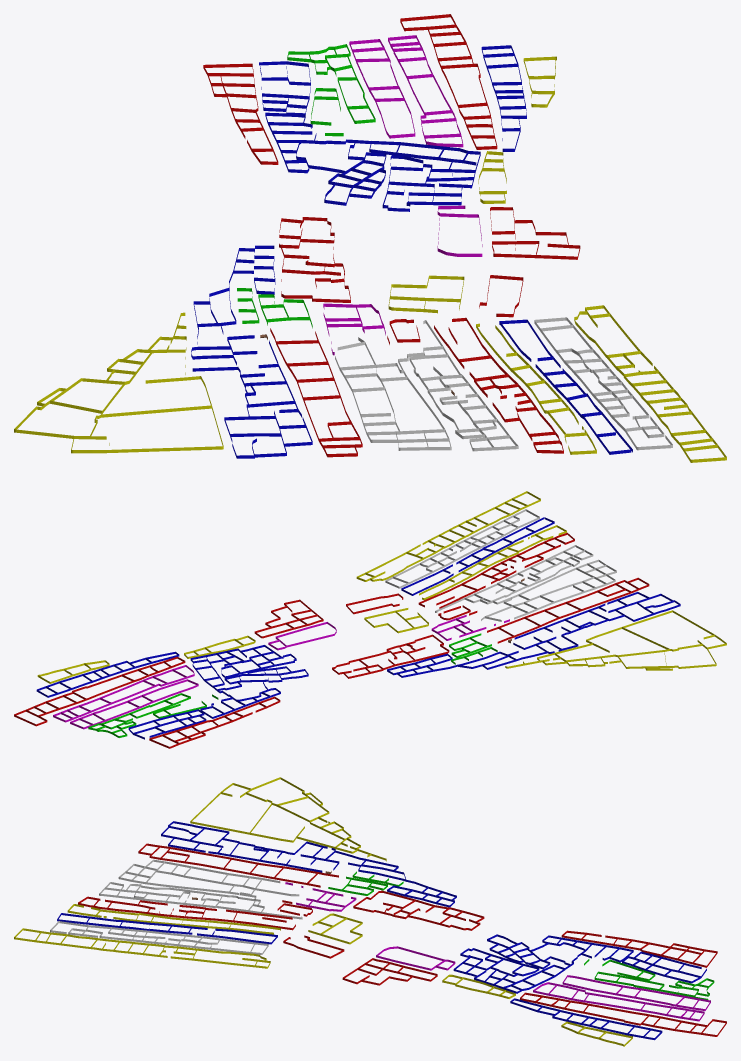
Rendered from Zabor2.fbx.
The picture shows the model from 3 angles, top to bottom: view 1: azimuth 30°, elevation 25°; view 2: azimuth 150°, elevation 25°; view 3: azimuth 270°, elevation 25°; orthographic projection. The views are drawn at different scales.
Visible parts, largest first — view 1: zabor_2; view 2: zabor_2; view 3: zabor_2.
Part boxes in pixels (left/top/right/bottom): zabor_2: left=14, top=14, right=726, bottom=462; zabor_2: left=14, top=491, right=726, bottom=748; zabor_2: left=14, top=777, right=726, bottom=1046.
Bounding box in the file's own units: 105035 × 3184 × 124111.
